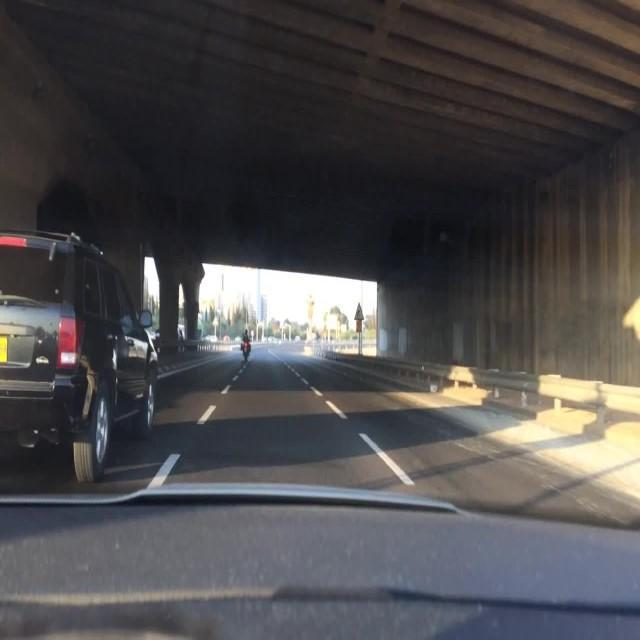normal: (0, 213, 193, 500)
